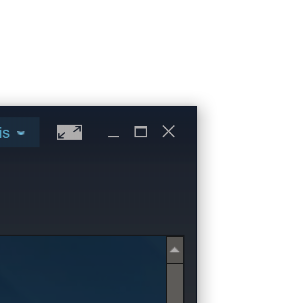close: (152, 116, 182, 144)
